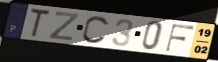0: (141, 21, 166, 52)
3: (112, 18, 135, 47)
C: (81, 15, 111, 45)
F: (164, 23, 196, 53)
T: (28, 7, 52, 39)
Z: (47, 11, 81, 42)
